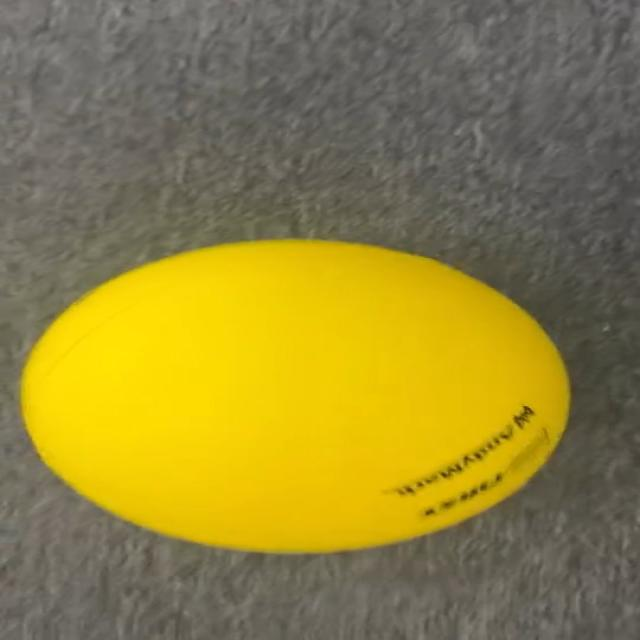Fuels: (20, 240, 569, 551)
